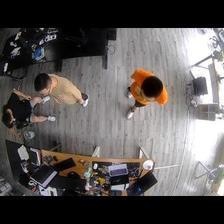normal: (124, 68, 168, 119), (1, 90, 56, 128), (36, 73, 91, 109)
